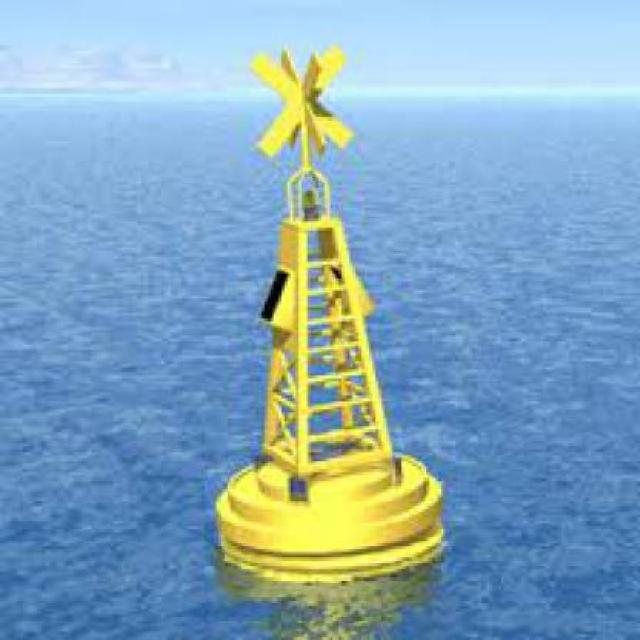buoy: (209, 37, 461, 596)
